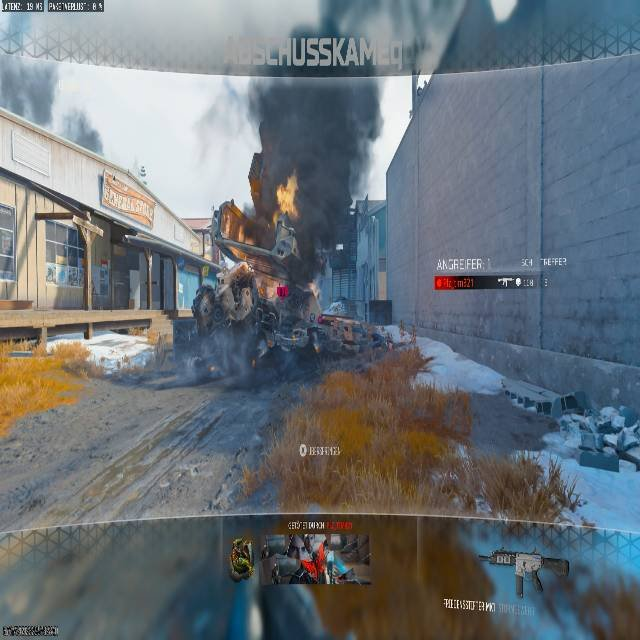head: (215, 200, 243, 232), (237, 261, 249, 275)
player: (192, 201, 285, 348), (223, 260, 256, 317), (253, 300, 277, 364)
